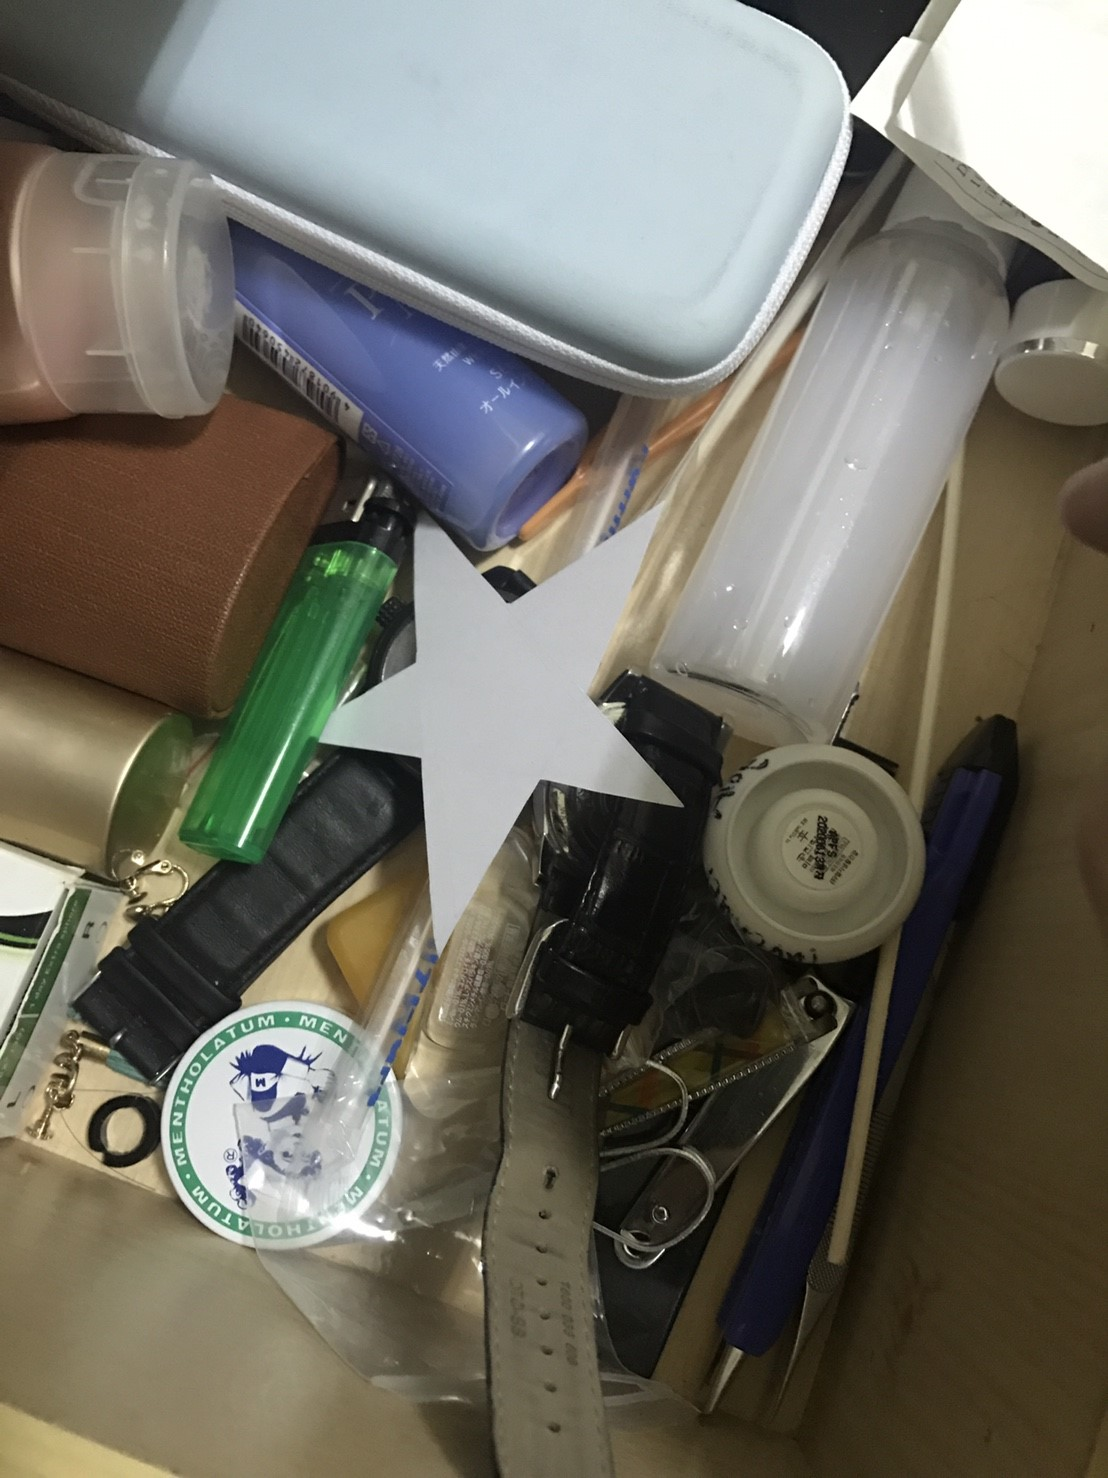star: (301, 476, 699, 974)
